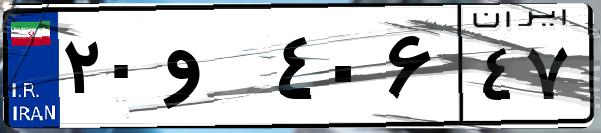0: (330, 28, 385, 110), (110, 28, 158, 98)
2: (57, 26, 110, 100)
4: (270, 28, 330, 110), (475, 38, 525, 113)
6: (385, 28, 445, 110)
7: (525, 38, 570, 115)
و: (158, 20, 270, 120)
